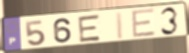3: (159, 6, 183, 36)
5: (24, 19, 47, 47)
6: (52, 17, 73, 44)
E: (130, 8, 157, 40), (77, 13, 103, 44)
I: (115, 11, 126, 41)
